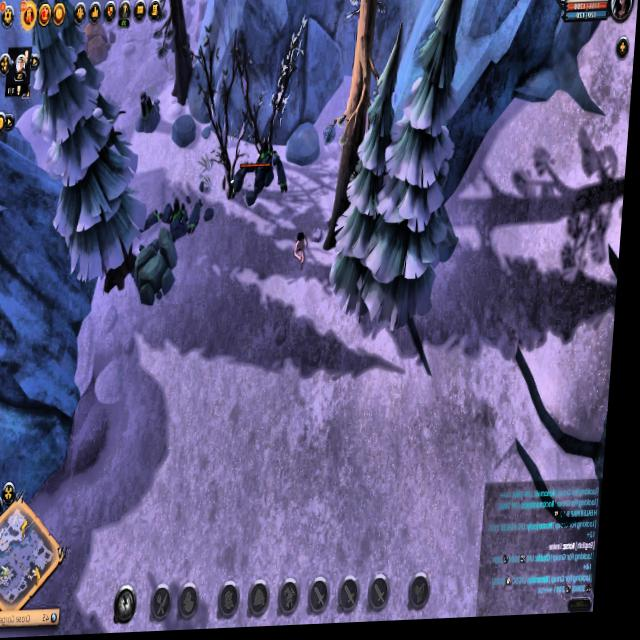limestone: (85, 23, 116, 62)
sandstone: (134, 222, 183, 310)
tin_ore: (135, 90, 168, 138)
